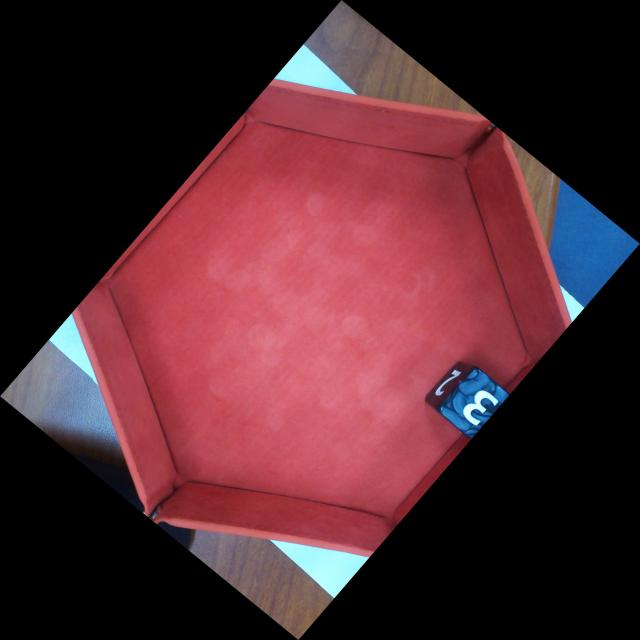dice: (437, 365, 511, 442)
